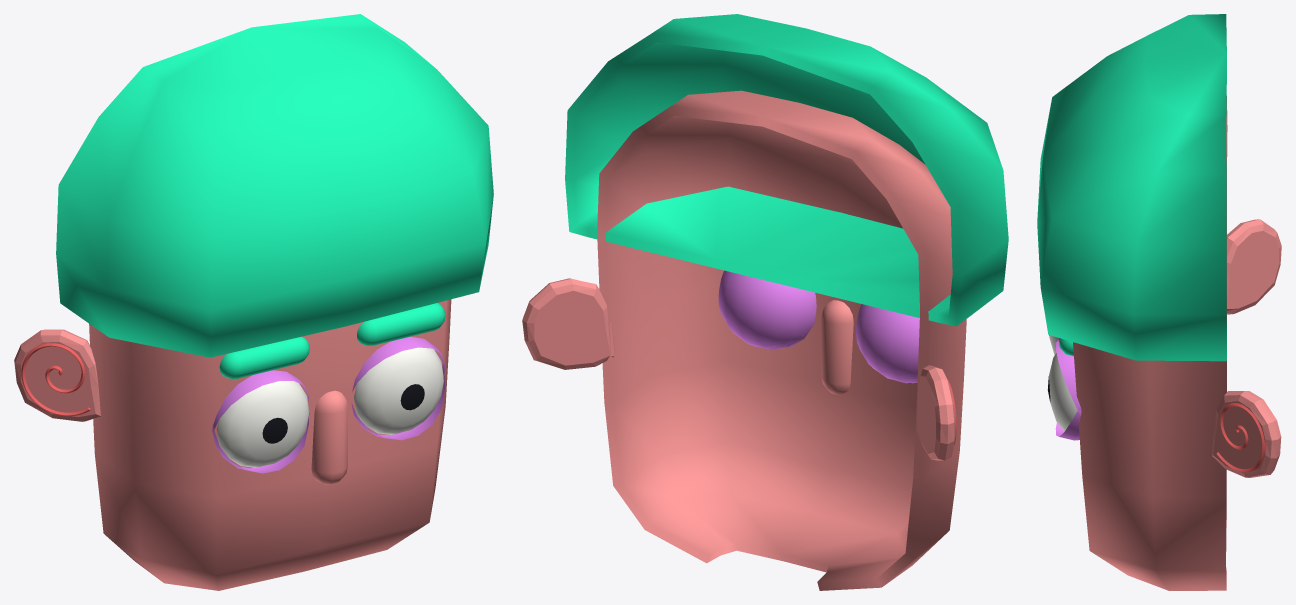
Rendered from convobot_head_front.fbx.
The picture shows the model from 3 angles, left to right: view 1: azimuth 30°, elevation 25°; view 2: azimuth 150°, elevation 25°; view 3: azimuth 270°, elevation 25°; orthographic projection. The views are drawn at different scales.
Parts seen in each view (by area): view 1: hair_bowl_front, head_front, R_eye, L_eye, R_ear, nose, R_brow, L_brow, R_lidupper, R_ear_swirl, L_lidupper, L_lidlower (+1 smaller); view 2: head_front, hair_bowl_front, L_ear, L_lidupper, L_lidlower, R_ear, nose, R_lidupper, R_lidlower; view 3: hair_bowl_front, head_front, L_ear, R_ear, L_eye, L_ear_swirl, L_lidupper, L_lidlower.
Boxes of the visible parts, left/top/right/bottom form: hair_bowl_front: left=56, top=14, right=493, bottom=357; head_front: left=89, top=299, right=451, bottom=590; R_eye: left=217, top=381, right=309, bottom=467; L_eye: left=354, top=347, right=443, bottom=434; R_ear: left=14, top=329, right=100, bottom=421; nose: left=311, top=390, right=347, bottom=484; R_brow: left=219, top=336, right=309, bottom=378; L_brow: left=357, top=303, right=445, bottom=345; R_lidupper: left=212, top=370, right=308, bottom=434; R_ear_swirl: left=21, top=343, right=90, bottom=416; L_lidupper: left=352, top=336, right=445, bottom=391; L_lidlower: left=351, top=373, right=445, bottom=440; head_front: left=597, top=90, right=966, bottom=590; hair_bowl_front: left=565, top=14, right=1008, bottom=326; L_ear: left=522, top=278, right=614, bottom=369; L_lidupper: left=718, top=271, right=816, bottom=349; L_lidlower: left=718, top=270, right=816, bottom=348; R_ear: left=916, top=365, right=955, bottom=460; nose: left=821, top=300, right=853, bottom=395; R_lidupper: left=856, top=304, right=919, bottom=383; R_lidlower: left=856, top=304, right=919, bottom=383; hair_bowl_front: left=1037, top=14, right=1226, bottom=361; head_front: left=1073, top=96, right=1227, bottom=590; L_ear: left=1212, top=391, right=1281, bottom=477; R_ear: left=1227, top=219, right=1281, bottom=314; L_eye: left=1047, top=353, right=1077, bottom=431; L_ear_swirl: left=1216, top=403, right=1264, bottom=472; L_lidupper: left=1055, top=340, right=1081, bottom=415; L_lidlower: left=1055, top=406, right=1081, bottom=440.
Size of the model in its own units: 752 by 885 by 391.
